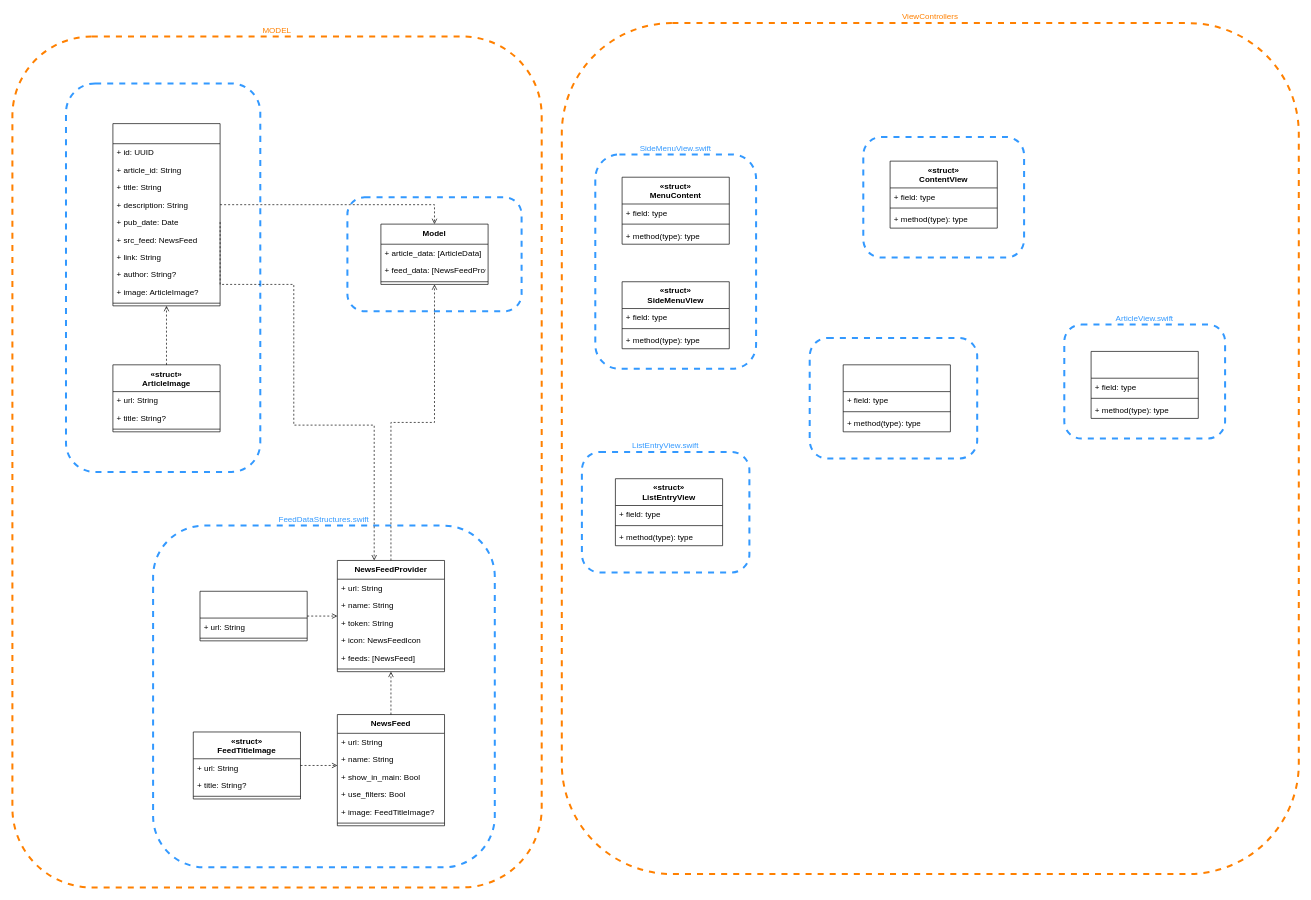
This 1311x900 diagram has some shape labels left out. The shapes that lost their labels are listed below. From the top down, each one's box as (x1, y1, x2, y2) in pixels, then its label:
(112, 123, 220, 306): ArticleData
(862, 136, 1025, 258): ContentView.swift
(346, 196, 522, 312): Model.swift
(65, 82, 261, 473): ArtcleDataStructures.swift
(808, 337, 978, 459): ArticleListView.swift
(843, 364, 950, 432): «struct» ArticleListView
(1090, 351, 1198, 418): «struct» ArticleView
(199, 591, 307, 641): «struct» NewsFeedICon
